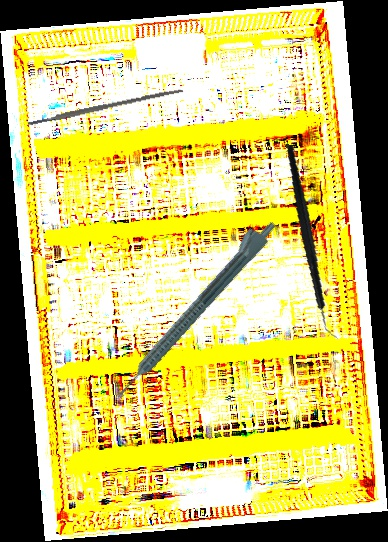Chopper: (257, 144, 369, 339)
Handpiece: (105, 211, 281, 403)
Scalpel Handle: (27, 86, 184, 127)
